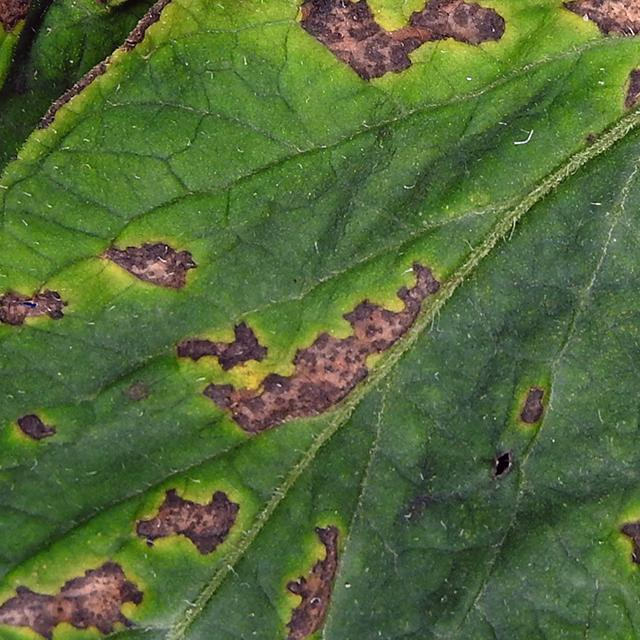Tomato leaf bacterial spot: (0, 0, 640, 640), (0, 0, 364, 426)
